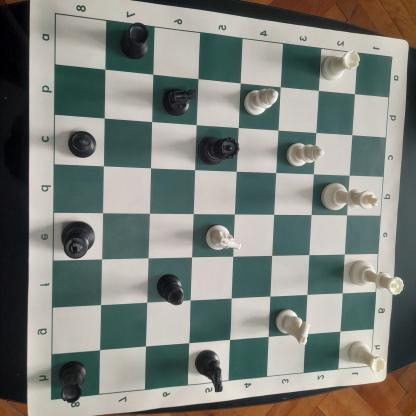black-bishop: (154, 269, 185, 308), (66, 125, 98, 162)
black-king: (57, 219, 100, 261)
black-knight: (190, 346, 228, 394), (158, 83, 202, 119)
black-queen: (194, 134, 242, 170)
black-rook: (54, 359, 89, 404), (119, 21, 152, 62)
white-bishop: (240, 85, 282, 119), (283, 139, 329, 170)
white-king: (319, 180, 382, 212)
white-knight: (270, 304, 316, 347), (202, 223, 246, 254)
white-queen: (347, 258, 408, 298)
white-rook: (346, 339, 388, 376), (318, 48, 361, 82)
